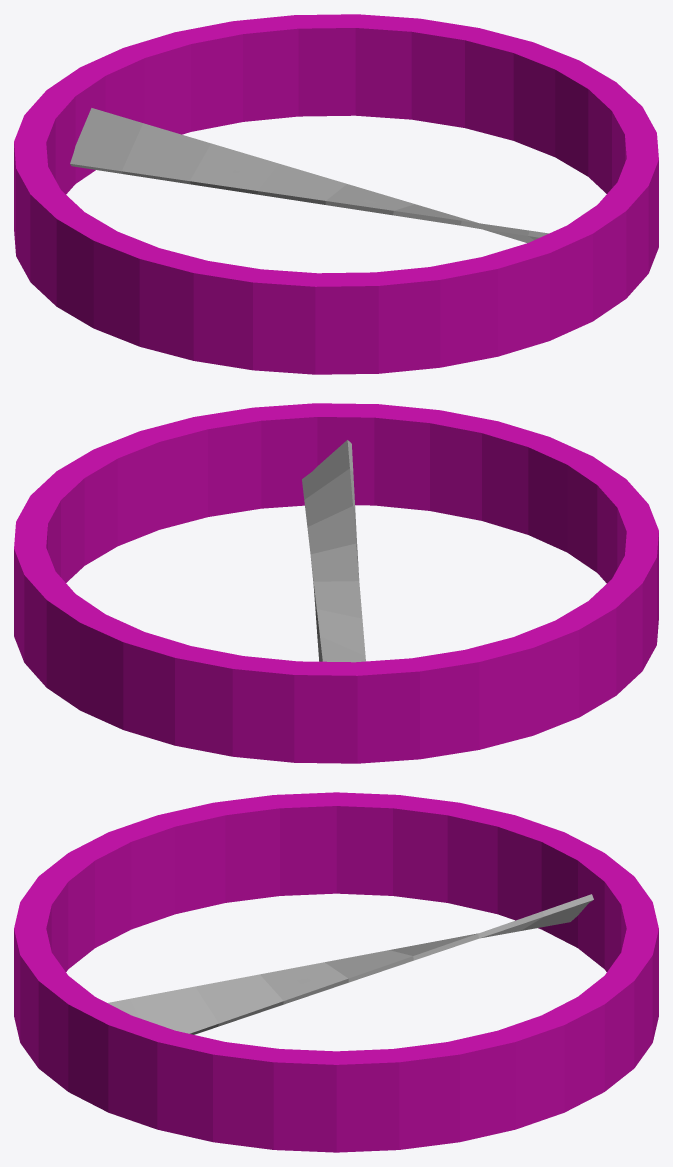
The model's file is fan.dae.
The picture shows the model from 3 angles, top to bottom: view 1: azimuth 30°, elevation 25°; view 2: azimuth 150°, elevation 25°; view 3: azimuth 270°, elevation 25°; orthographic projection.
Parts seen in each view (by area): view 1: Surround, Blade; view 2: Surround, Blade; view 3: Surround, Blade.
Part boxes in pixels (<box>): Surround: <box>14,14,658,374</box>; Blade: <box>70,108,548,243</box>; Surround: <box>14,403,658,763</box>; Blade: <box>302,440,365,662</box>; Surround: <box>14,792,658,1152</box>; Blade: <box>108,894,593,1034</box>.
Bounding box in the file's own units: 2 × 2 × 0.3.
